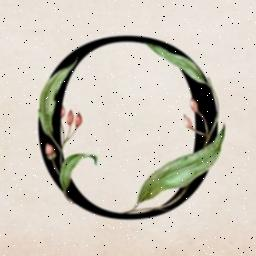o: (26, 24, 230, 228)
